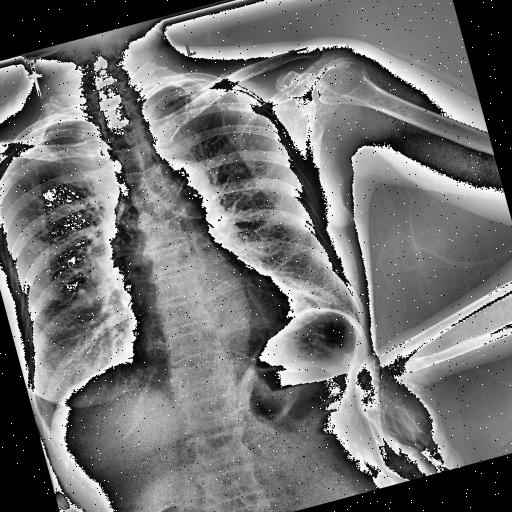0- Aortic enlargement: (146, 151, 216, 225), (144, 151, 214, 216)
2- Calcification: (104, 200, 132, 226), (110, 200, 128, 218), (180, 182, 200, 198)
3- Cardiomegaly: (120, 262, 302, 366), (112, 268, 298, 364)
